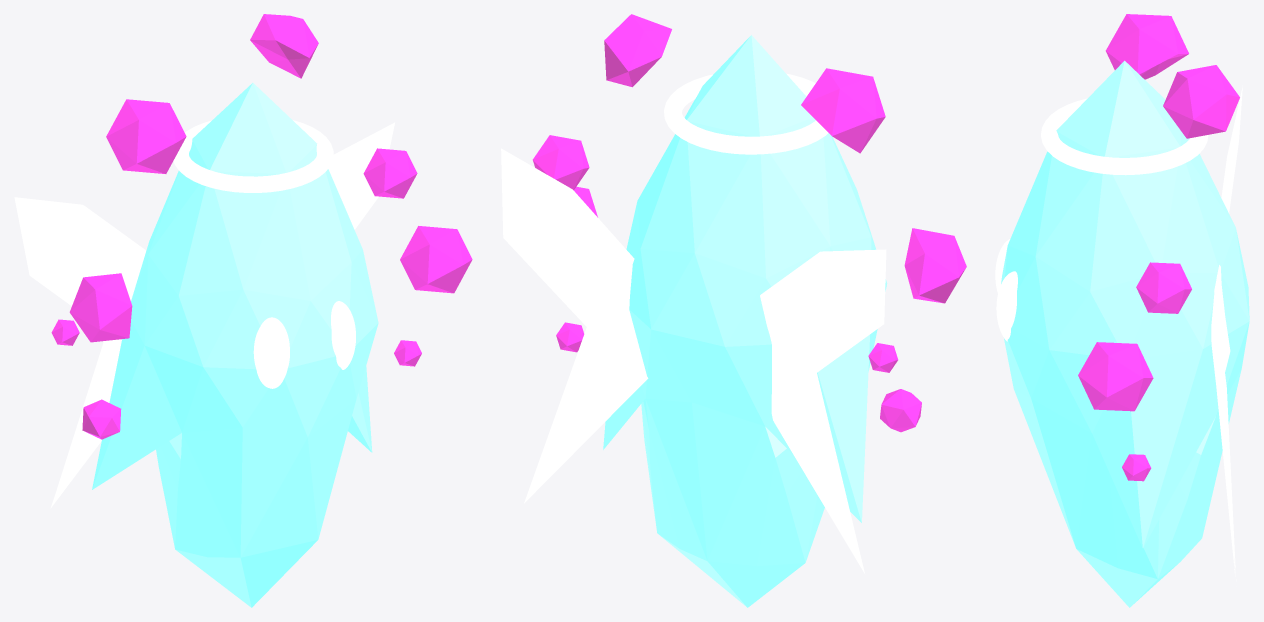
File: Forma_GlitchCristal.glb
The picture shows the model from 3 angles, left to right: view 1: azimuth 30°, elevation 25°; view 2: azimuth 150°, elevation 25°; view 3: azimuth 270°, elevation 25°; orthographic projection. The views are drawn at different scales.
Visible parts, largest first — view 1: Icosphere.001, Icosphere.002, Icosphere.003, Torus, Icosphere; view 2: Icosphere.001, Icosphere.003, Icosphere.002, Torus; view 3: Icosphere.001, Icosphere.002, Torus, Icosphere.003, Icosphere.
Part boxes in pixels (bbox=[...]): Icosphere.001: bbox=[92, 83, 378, 607]; Icosphere.002: bbox=[51, 14, 472, 439]; Icosphere.003: bbox=[14, 122, 394, 508]; Torus: bbox=[173, 120, 333, 192]; Icosphere: bbox=[253, 301, 355, 388]; Icosphere.001: bbox=[603, 35, 887, 607]; Icosphere.003: bbox=[501, 148, 886, 573]; Icosphere.002: bbox=[532, 14, 966, 432]; Torus: bbox=[664, 73, 828, 154]; Icosphere.001: bbox=[1001, 60, 1249, 607]; Icosphere.002: bbox=[1078, 14, 1239, 481]; Torus: bbox=[1041, 98, 1208, 175]; Icosphere.003: bbox=[1211, 85, 1242, 581]; Icosphere: bbox=[995, 239, 1017, 341].
Size of the model in its own units: 2.22 by 2.93 by 1.18.
